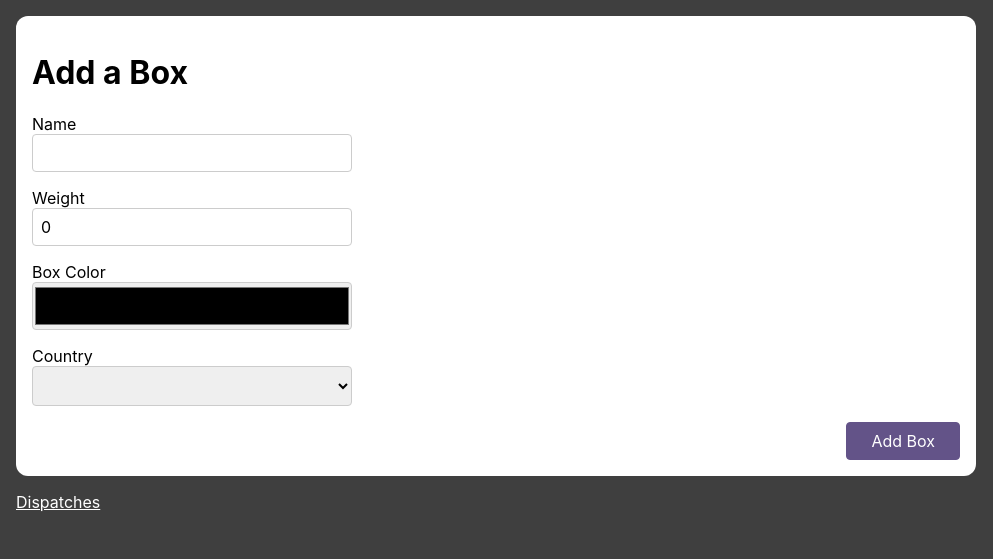
Test: AddBoxForm Component › Country input error displaying after input touched
Click the dropdown labelled "Country" at (192, 386), box [32,366,352,406]
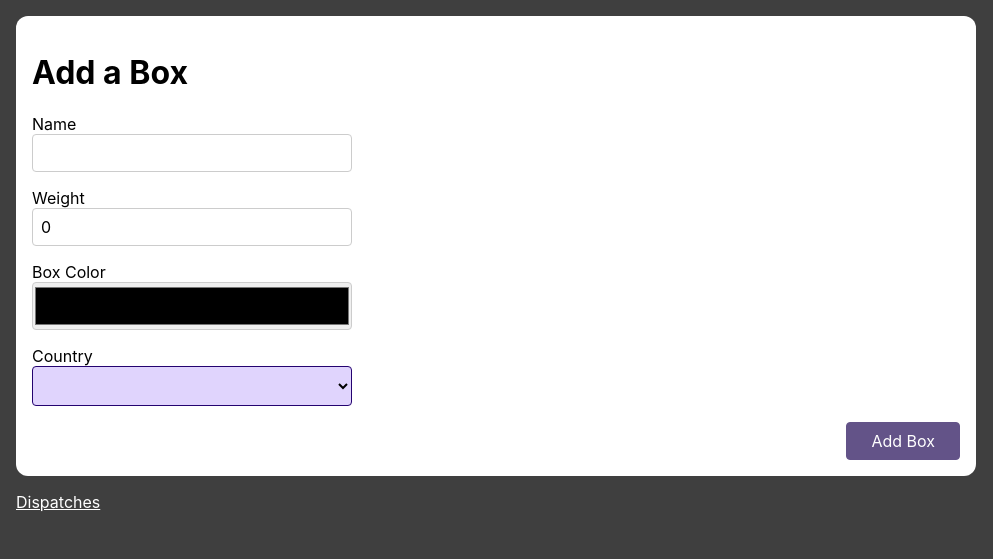
Leave the dropdown labelled "Country", box [32,366,352,406]
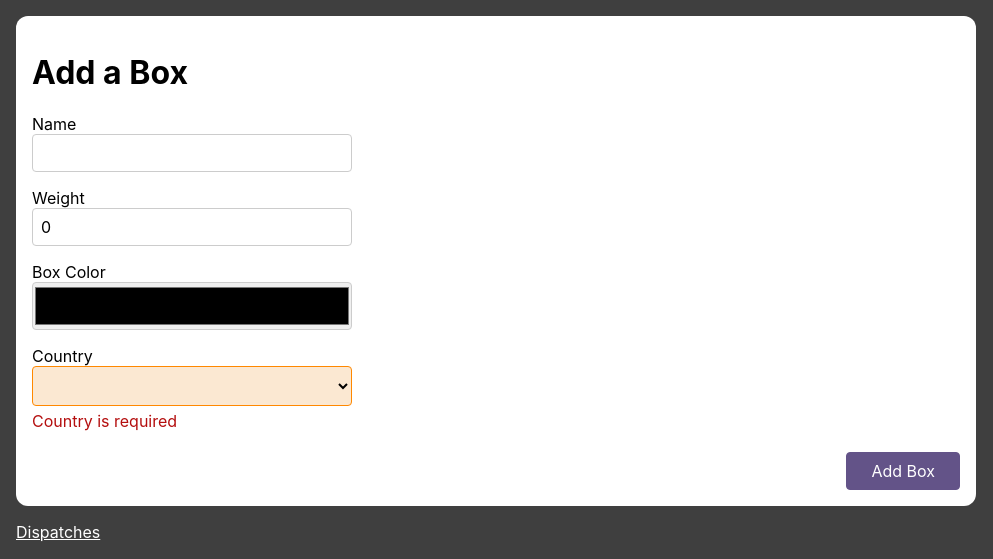
Now the text "Country is required" is shown, box [32,411,177,431]
